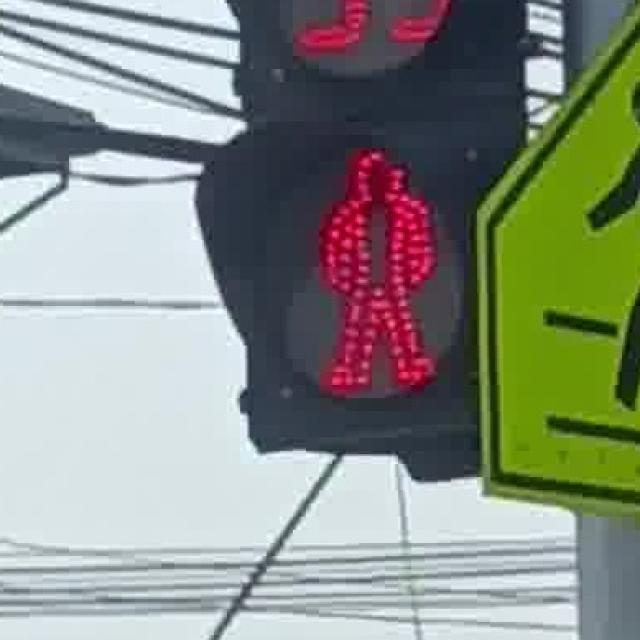red_light: (273, 128, 464, 412)
